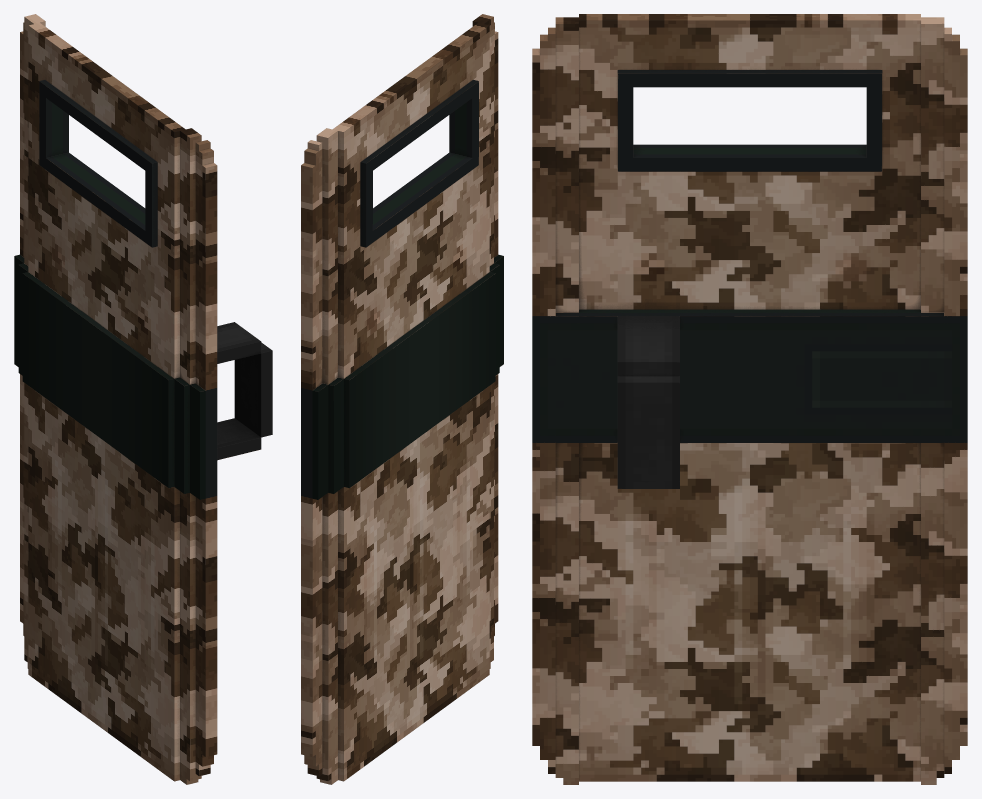
File: RD_SHIELD_DESERT.glb
The picture shows the model from 3 angles, left to right: view 1: azimuth 30°, elevation 25°; view 2: azimuth 150°, elevation 25°; view 3: azimuth 270°, elevation 25°; orthographic projection. The views are drawn at different scales.
Parts seen in each view (by area): view 1: RD_SHIELD_DESERT; view 2: RD_SHIELD_DESERT; view 3: RD_SHIELD_DESERT.
Part boxes in pixels (x1,y1,x2,y2): RD_SHIELD_DESERT: [14, 14, 272, 784]; RD_SHIELD_DESERT: [301, 14, 503, 784]; RD_SHIELD_DESERT: [532, 14, 967, 784].
Bounding box in the file's own units: 0.3761 × 1.93 × 1.
1 material, 1 textured.
